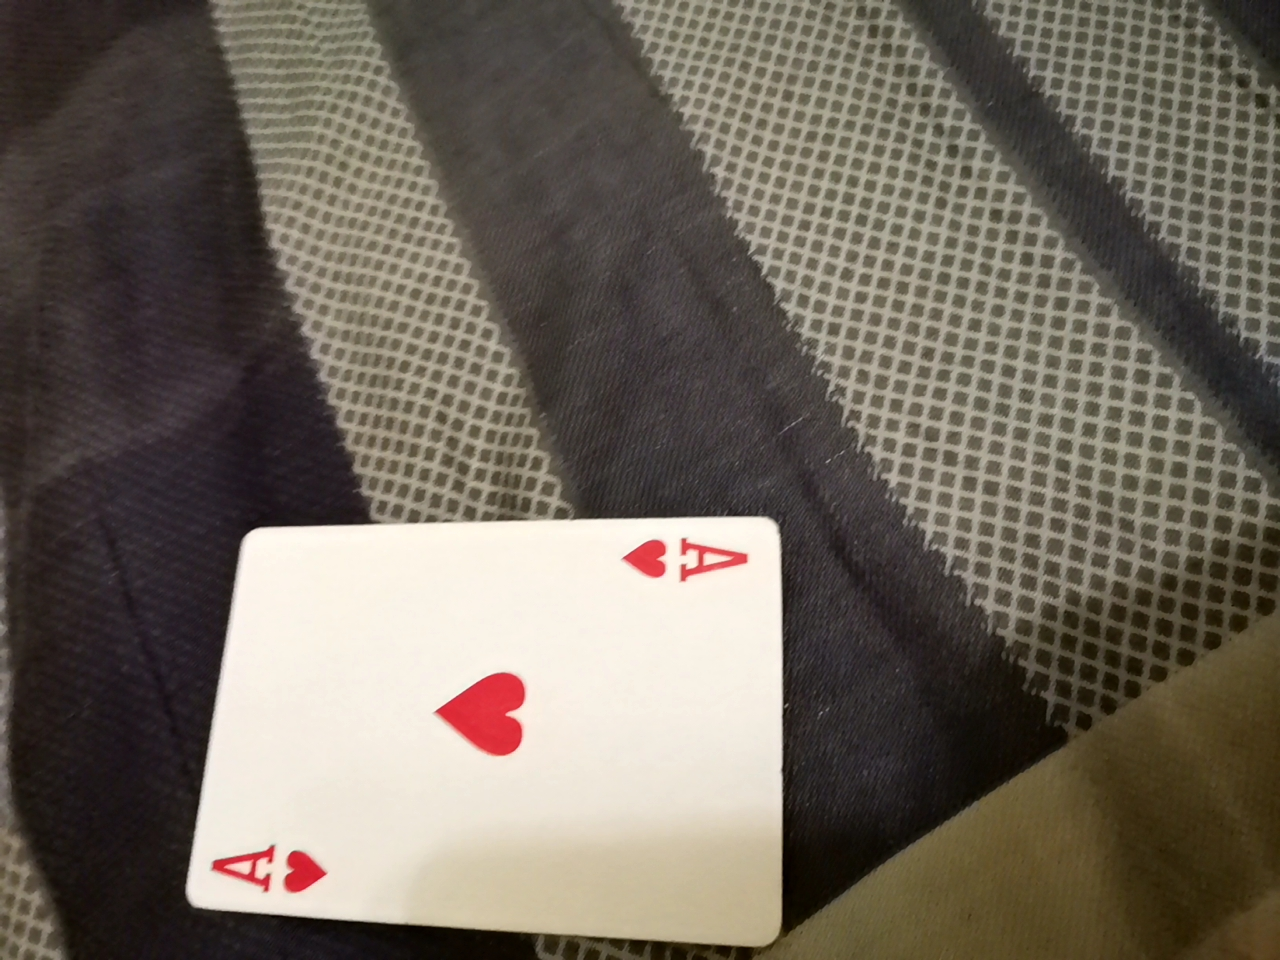hx a: (193, 508, 807, 927)
